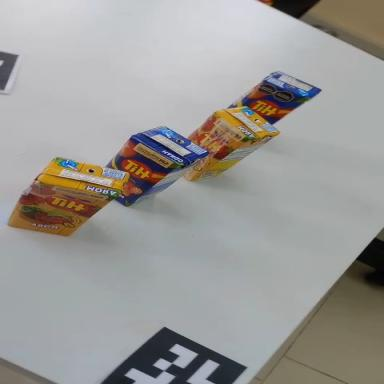HIT-MANGO: (91, 106, 208, 219), (227, 56, 322, 139)
HIT-MORA: (8, 149, 132, 251), (164, 89, 279, 192)
cara_F: (8, 176, 117, 247), (92, 126, 178, 210), (164, 105, 249, 183), (235, 75, 310, 135)
